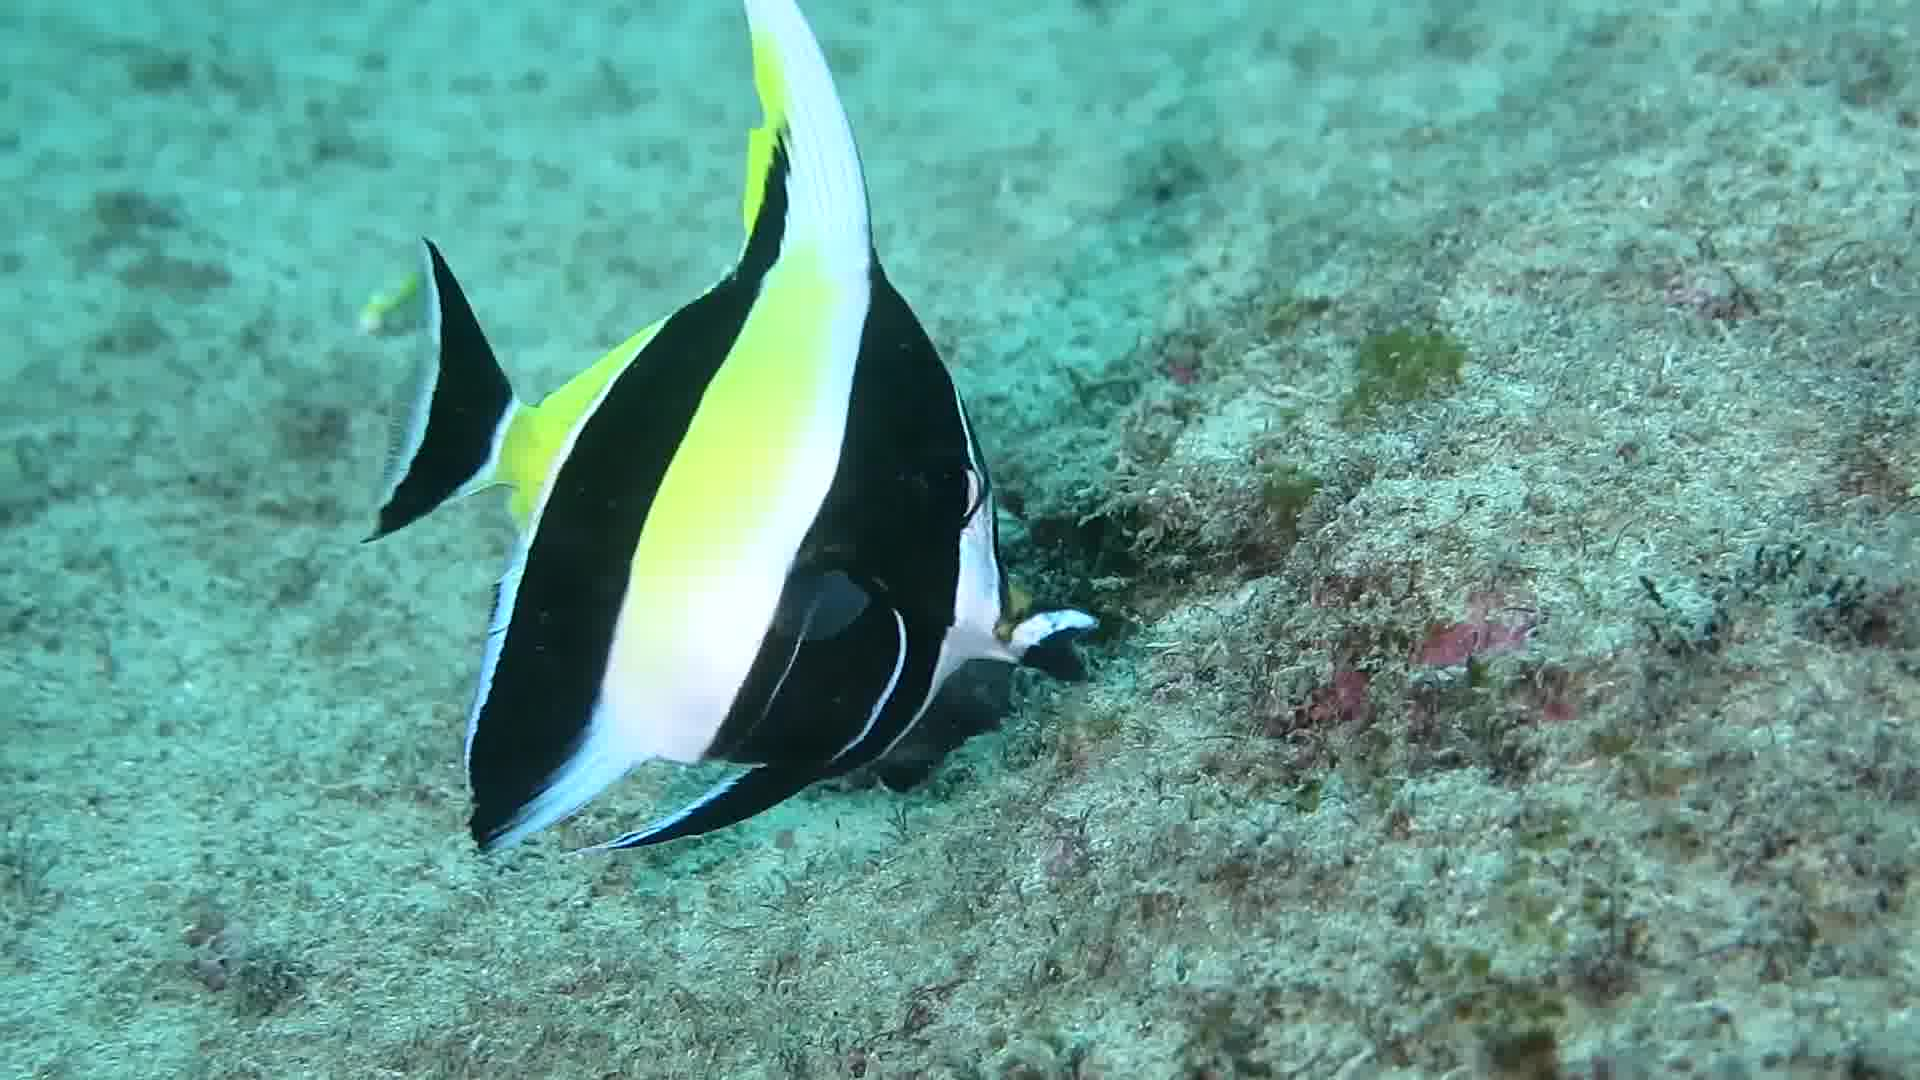Zanclus cornutus: (353, 145, 1122, 852)
